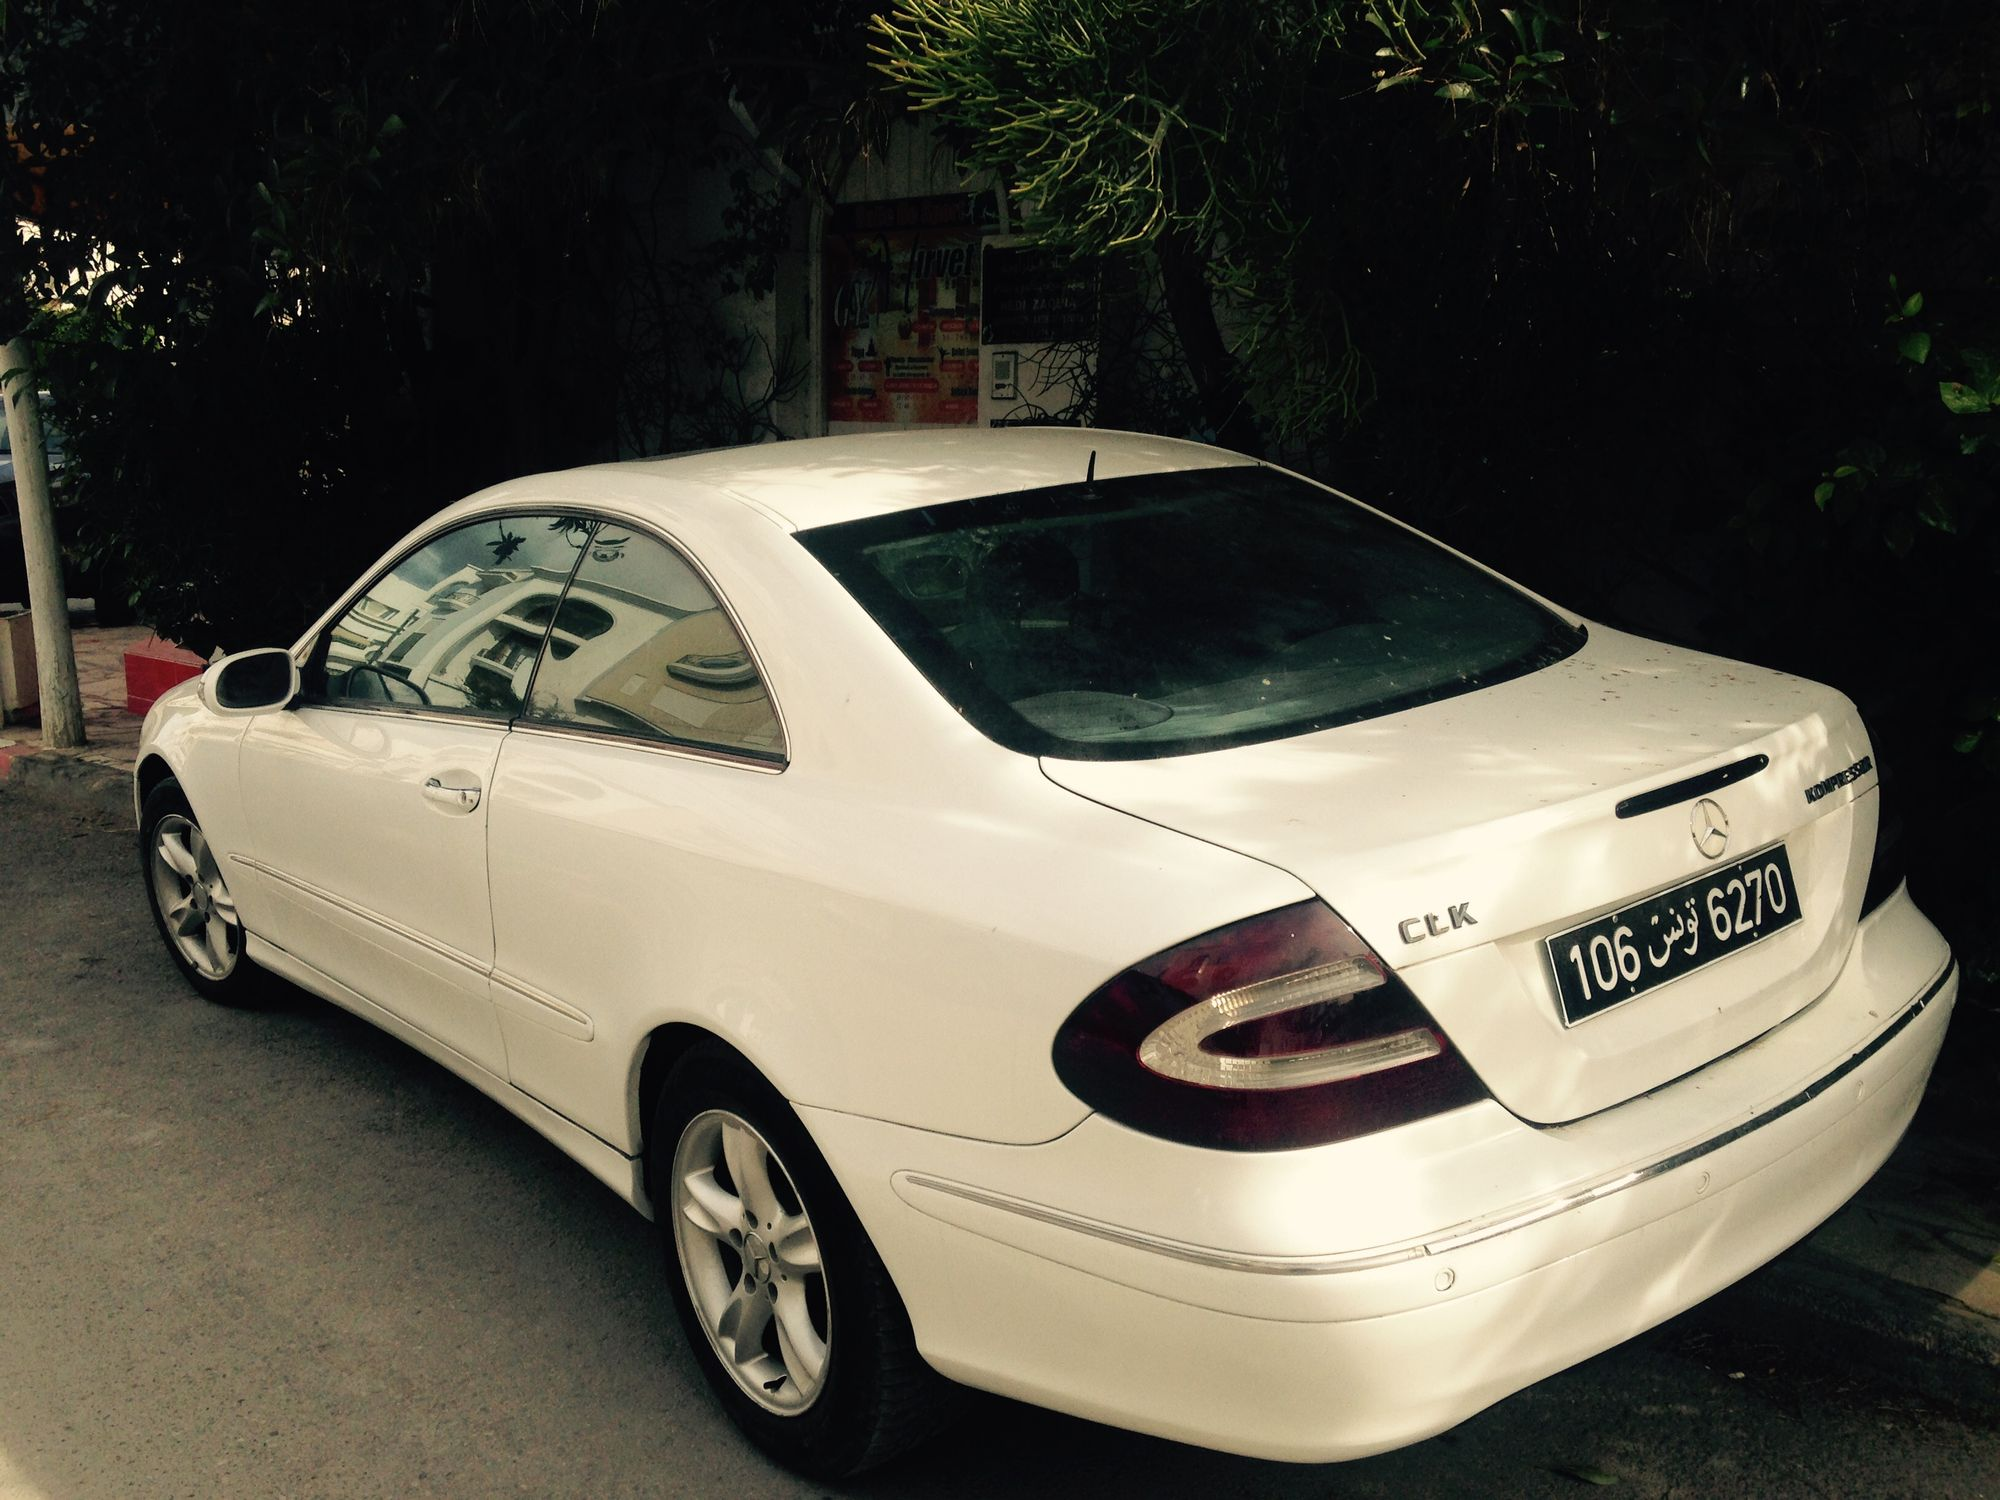LP: (1545, 840, 1813, 1029)
